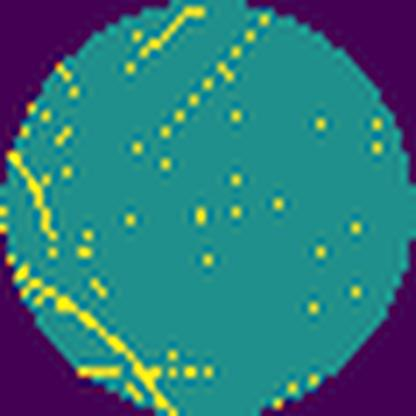Scratch: (8, 253, 217, 416), (156, 16, 276, 143), (10, 149, 62, 243), (133, 5, 207, 59)
